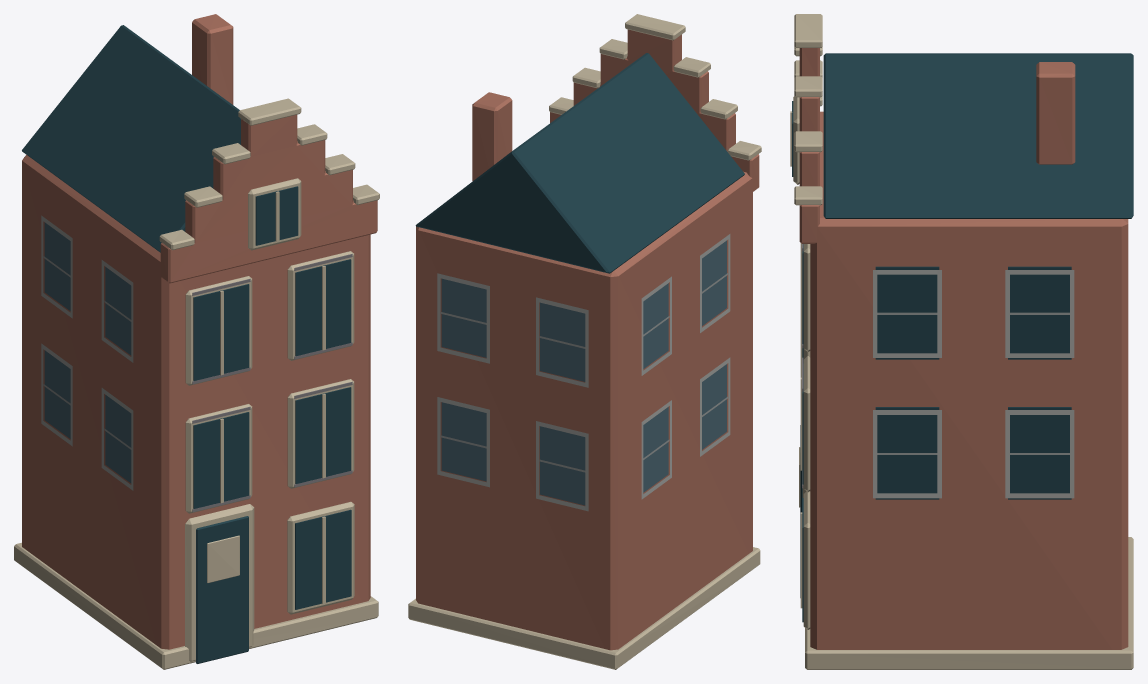
Rendered from city_gable_house.glb.
3 renders of one model, left to right at view 1: azimuth 30°, elevation 25°; view 2: azimuth 150°, elevation 25°; view 3: azimuth 270°, elevation 25°, orthographic. The views are drawn at different scales.
Parts seen in each view (by area): view 1: city_gable_house; view 2: city_gable_house; view 3: city_gable_house.
Boxes of the visible parts, box(x1,y1,x2,y2) form: city_gable_house: box(14, 14, 379, 669); city_gable_house: box(408, 14, 761, 669); city_gable_house: box(790, 14, 1133, 669).
Size of the model in its own units: 3.1 by 7.32 by 3.88.
